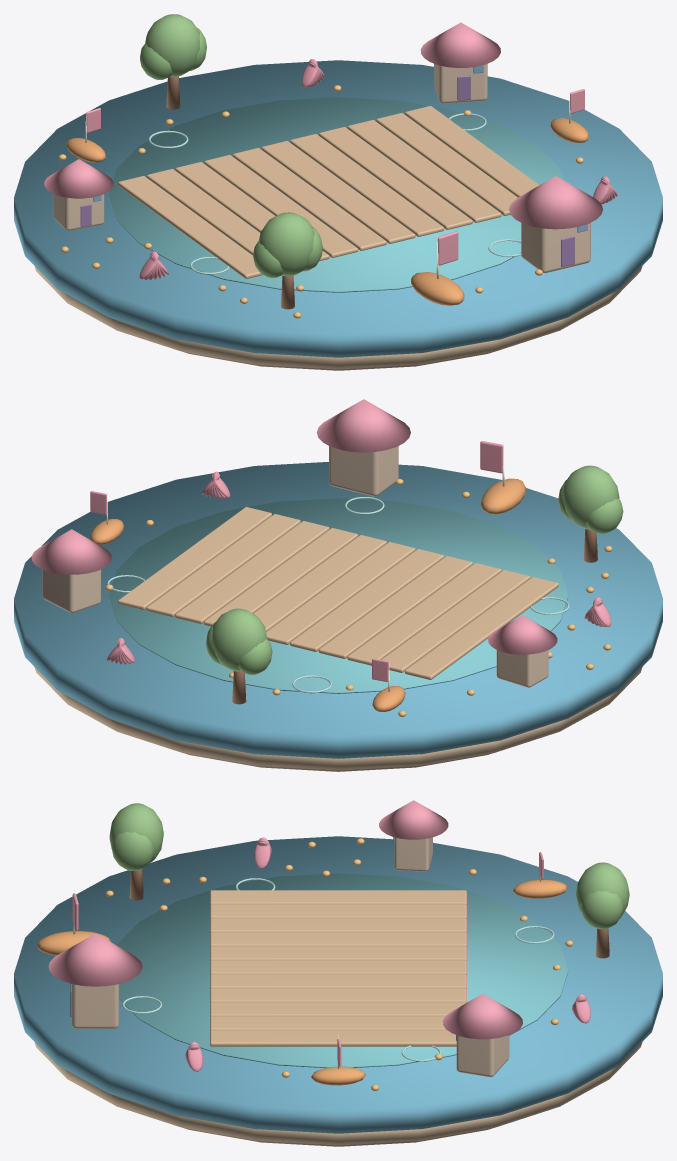
The model's file is world.glb.
The picture shows the model from 3 angles, top to bottom: view 1: azimuth 30°, elevation 25°; view 2: azimuth 150°, elevation 25°; view 3: azimuth 270°, elevation 25°; orthographic projection.
Visible parts, largest first — view 1: Cone, Cone.003, Cone.001, house.003, house.001, tree.002, Cube.005, tree.001, Cube.004, Cube.006, Cube.007, Cube.008 (+11 smaller); view 2: Cone, Cone.003, Cone.001, house.003, house.001, Cube, Cube.004, Cube.008, Cube.010, Cube.003, Cube.009, tree.001 (+11 smaller); view 3: Cone, Cone.003, Cone.001, house.003, house.001, Cube.010, Cube, Cube.001, Cube.002, Cube.003, Cube.004, Cube.005 (+11 smaller).
Part boxes in pixels (x1,y1,x2,y2): Cone: [14, 60, 662, 357]; Cone.003: [108, 97, 563, 292]; Cone.001: [34, 266, 642, 369]; house.003: [509, 176, 602, 273]; house.001: [420, 22, 500, 103]; tree.002: [253, 212, 322, 309]; Cube.005: [261, 141, 415, 243]; tree.001: [140, 14, 206, 109]; Cube.004: [232, 148, 386, 250]; Cube.006: [290, 134, 444, 236]; Cube.007: [318, 127, 472, 229]; Cube.008: [347, 120, 501, 222]; Cone: [14, 462, 662, 758]; Cone.003: [108, 498, 568, 693]; Cone.001: [34, 667, 642, 770]; house.003: [316, 399, 410, 496]; house.001: [31, 529, 111, 612]; Cube: [405, 577, 558, 679]; Cube.004: [290, 549, 444, 651]; Cube.008: [175, 521, 329, 623]; Cube.010: [118, 507, 271, 609]; Cube.003: [318, 556, 472, 658]; Cube.009: [146, 514, 300, 616]; tree.001: [206, 608, 272, 704]; Cone: [14, 836, 662, 1133]; Cone.003: [116, 873, 568, 1067]; Cone.001: [34, 1042, 642, 1145]; house.003: [48, 933, 142, 1028]; house.001: [442, 994, 522, 1077]; Cube.010: [210, 1030, 456, 1046]; Cube: [210, 890, 466, 904]; Cube.001: [210, 904, 466, 918]; Cube.002: [210, 918, 466, 932]; Cube.003: [210, 932, 466, 946]; Cube.004: [210, 946, 466, 960]; Cube.005: [210, 960, 466, 974].
Bounding box in the file's own units: 9.6 × 2.3 × 9.6.
